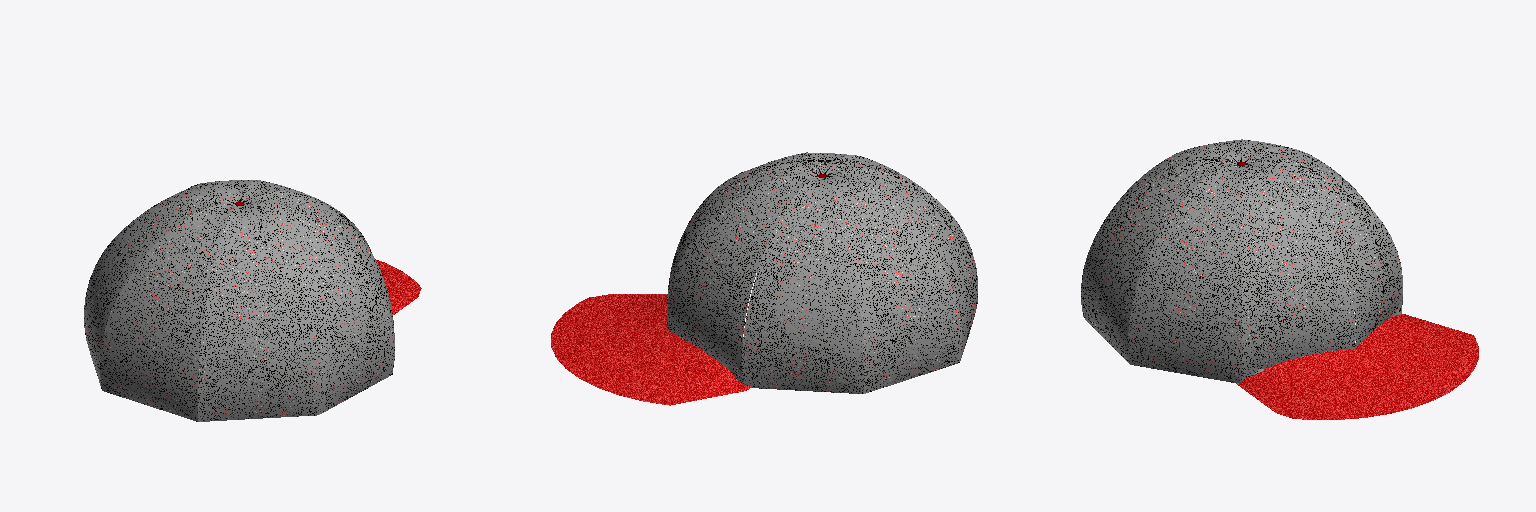
3 renders of one model, left to right at view 1: azimuth 30°, elevation 25°; view 2: azimuth 150°, elevation 25°; view 3: azimuth 270°, elevation 25°, orthographic.
Parts seen in each view (by area): view 1: group_1_ID5.011, group_7_ID421, group_3_ID209.002, group_8_ID518, group_4_ID306, group_9_ID615, group_5_ID403, group_10_ID651; view 2: group_5_ID403, group_8_ID518, group_9_ID615, group_2_ID112.002, group_7_ID421, group_10_ID651, group_1_ID5.011; view 3: group_4_ID306, group_10_ID651, group_9_ID615, group_3_ID209.002, group_2_ID112.002, group_1_ID5.011, group_5_ID403.
Boxes of the visible parts, box(x1,y1,x2,y2) form: group_1_ID5.011: box(198, 206, 319, 421); group_7_ID421: box(100, 204, 236, 421); group_3_ID209.002: box(244, 203, 394, 414); group_8_ID518: box(84, 196, 234, 388); group_4_ID306: box(244, 191, 394, 340); group_9_ID615: box(376, 260, 421, 314); group_5_ID403: box(126, 183, 235, 226); group_10_ID651: box(241, 180, 370, 249); group_5_ID403: box(742, 178, 863, 393); group_8_ID518: box(826, 177, 961, 393); group_9_ID615: box(551, 294, 751, 405); group_2_ID112.002: box(667, 175, 818, 383); group_7_ID421: box(828, 168, 977, 360); group_10_ID651: box(667, 163, 817, 306); group_1_ID5.011: box(825, 155, 936, 199); group_4_ID306: box(1128, 166, 1241, 382); group_10_ID651: box(1242, 165, 1355, 380); group_9_ID615: box(1236, 314, 1478, 419); group_3_ID209.002: box(1081, 160, 1236, 363); group_2_ID112.002: box(1247, 160, 1402, 347); group_1_ID5.011: box(1081, 147, 1237, 311); group_5_ID403: box(1245, 147, 1402, 304).
Bounding box in the file's own units: 0.4536 × 0.1952 × 0.4469.
Materials: 5 (2 with a texture image).